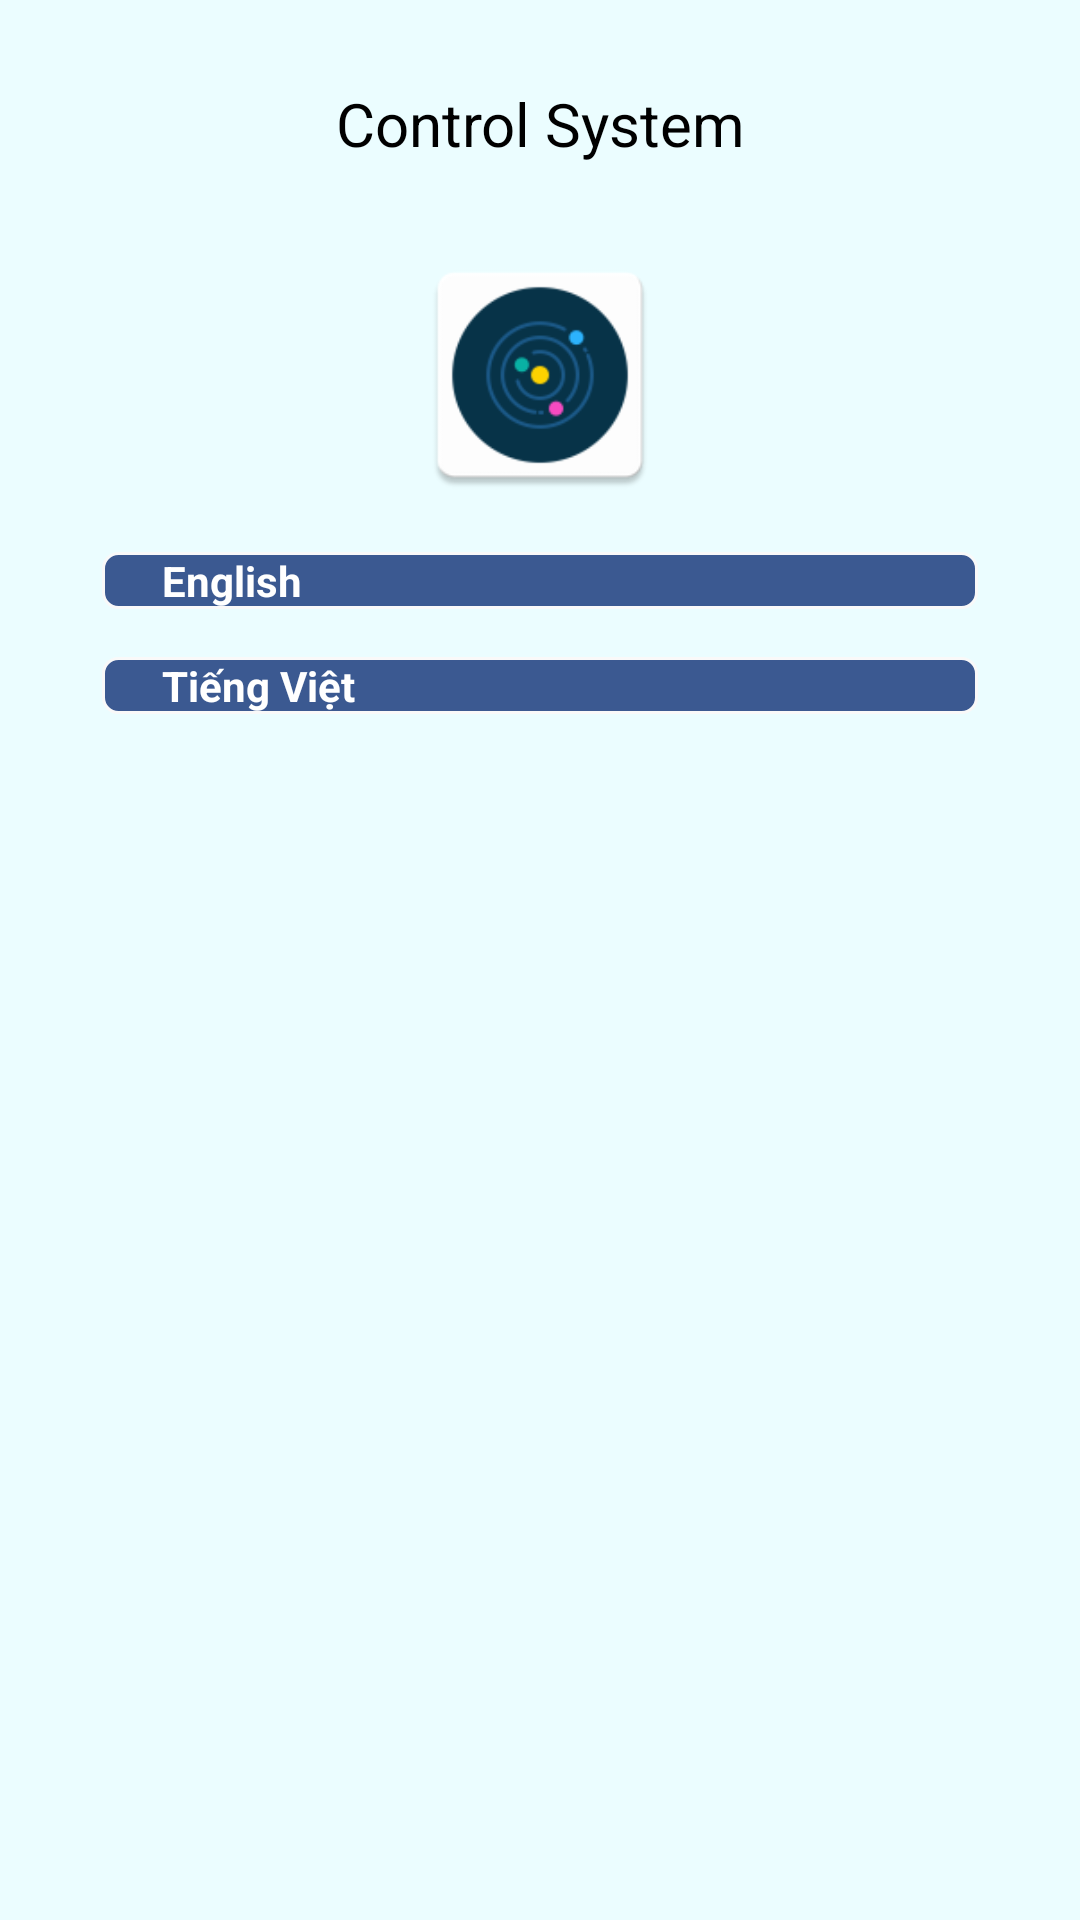

Screen size 1080w x 1920h. Icon name, then its center in pixels as [x,y]:
MAIN IMAGE: [541,384]
